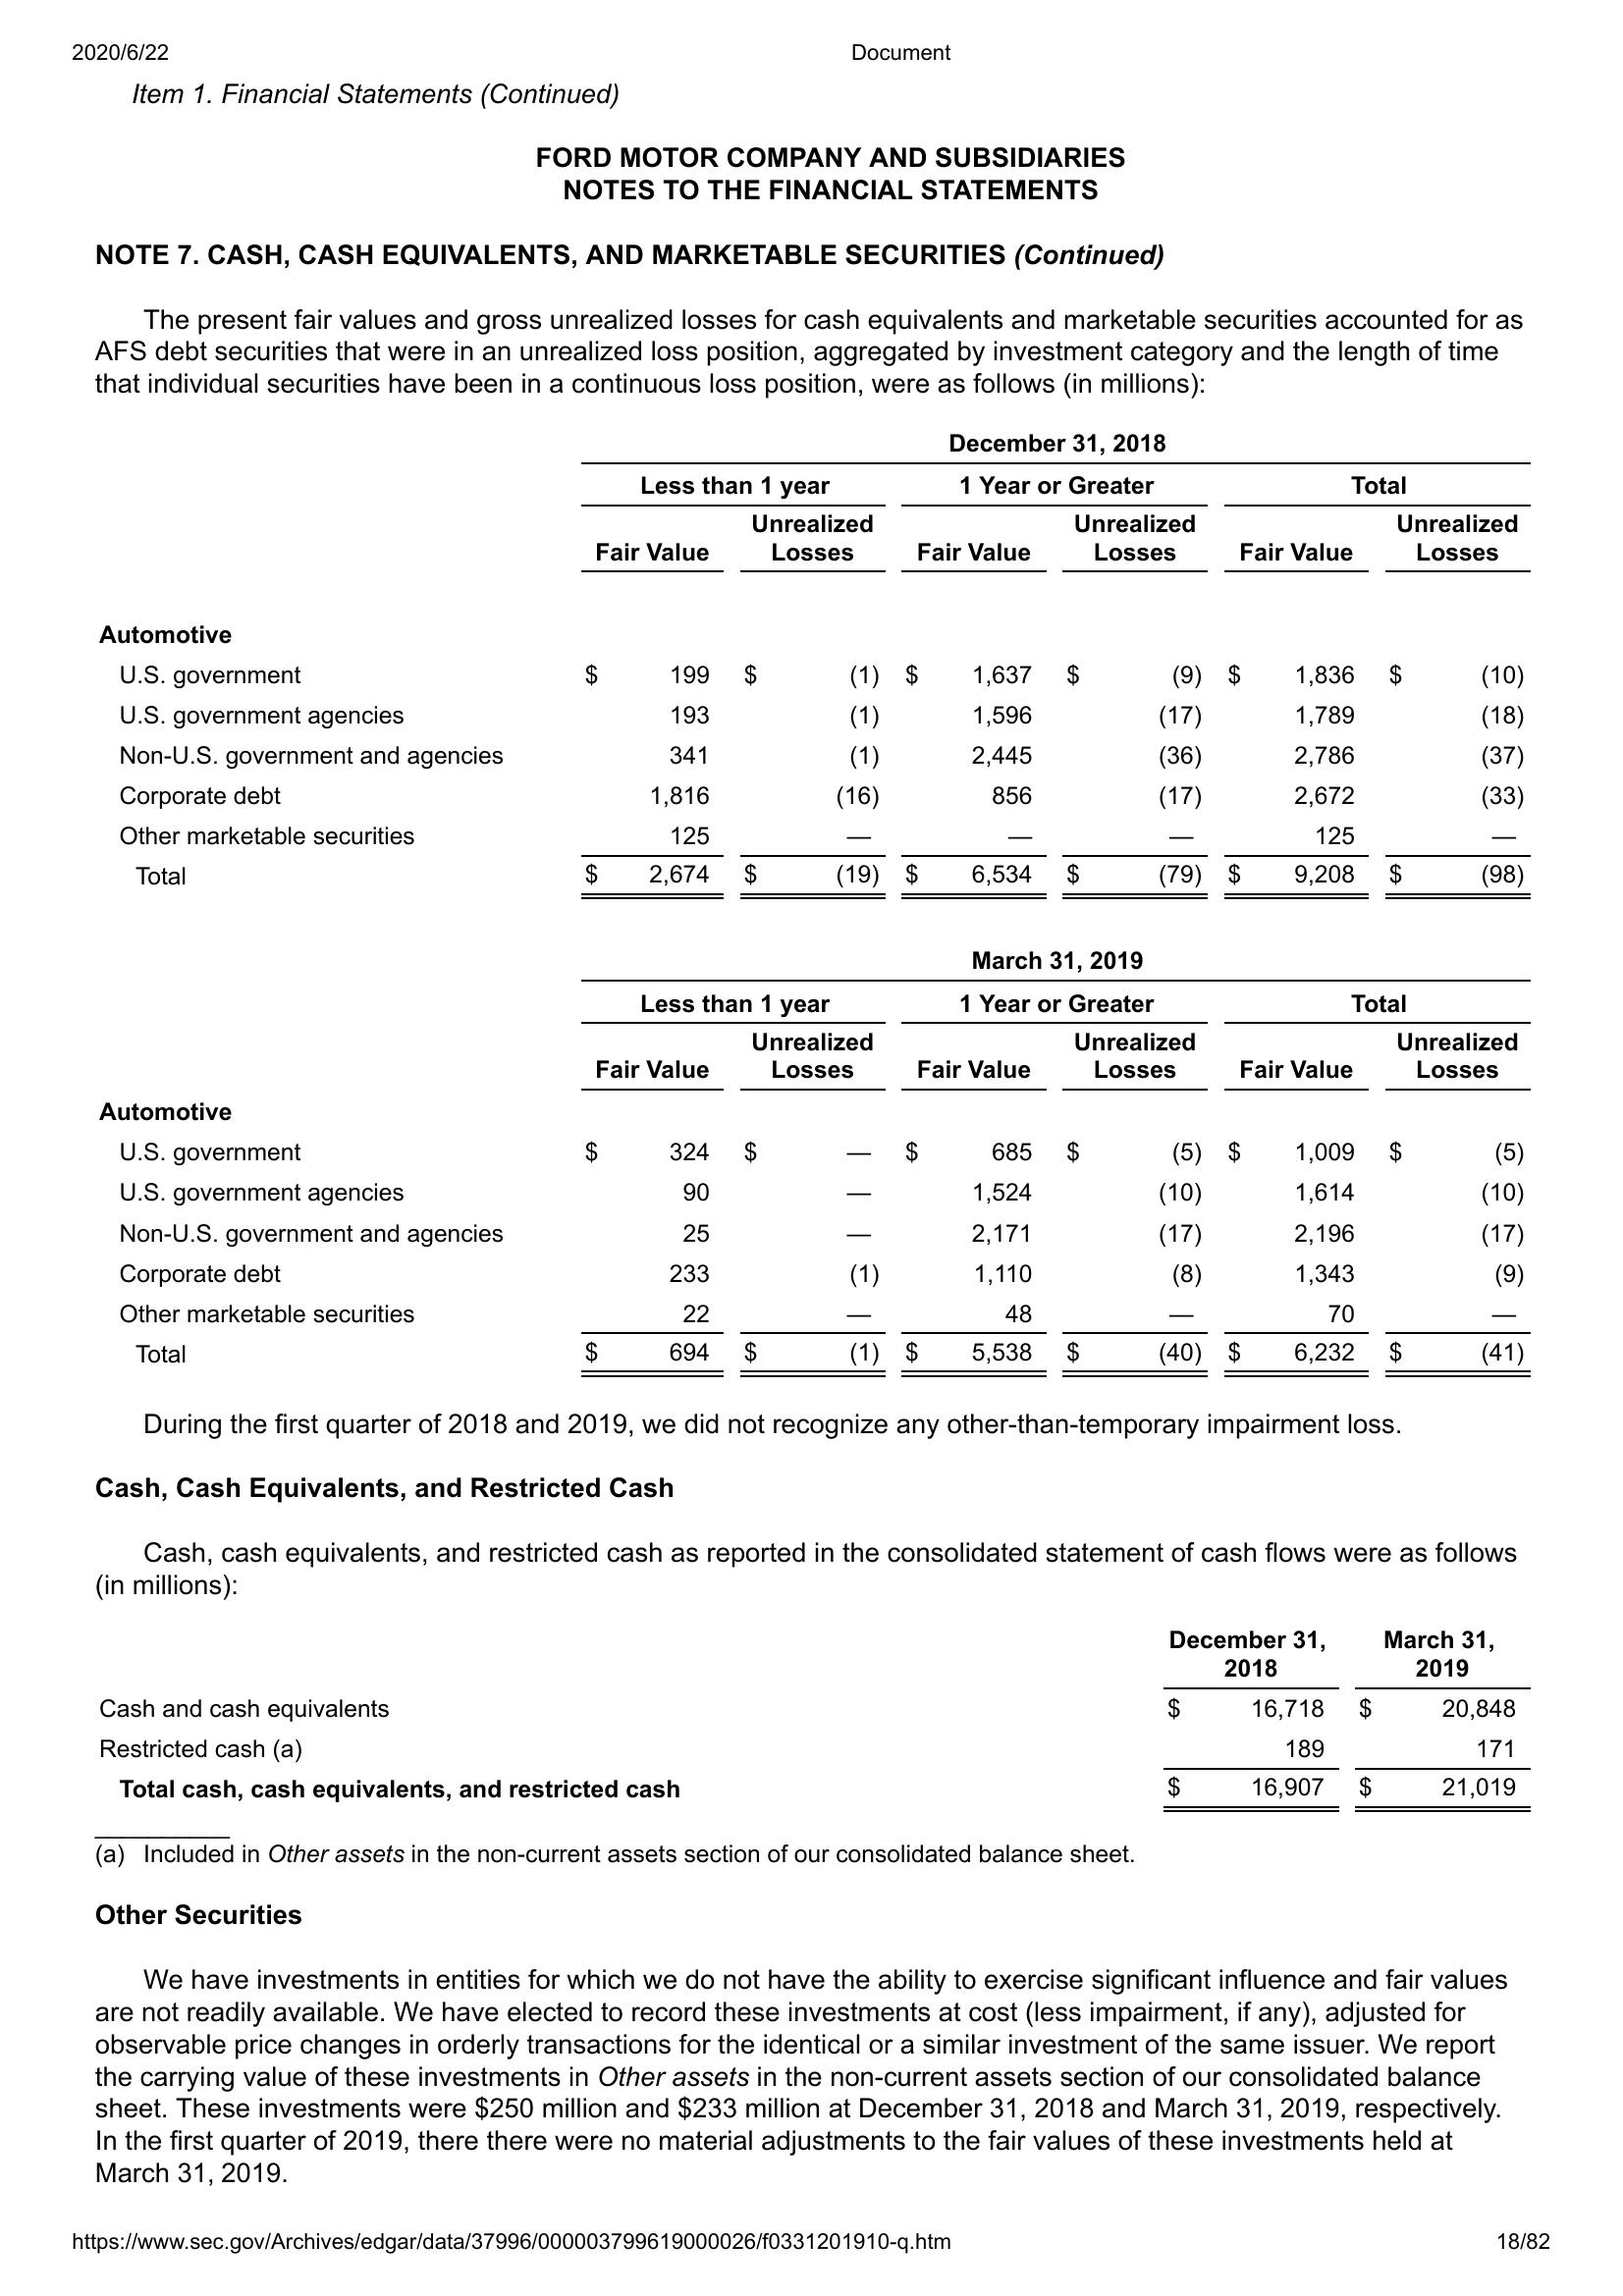table: (91, 420, 1539, 906), (84, 941, 1539, 1388), (98, 1606, 1542, 1820)
